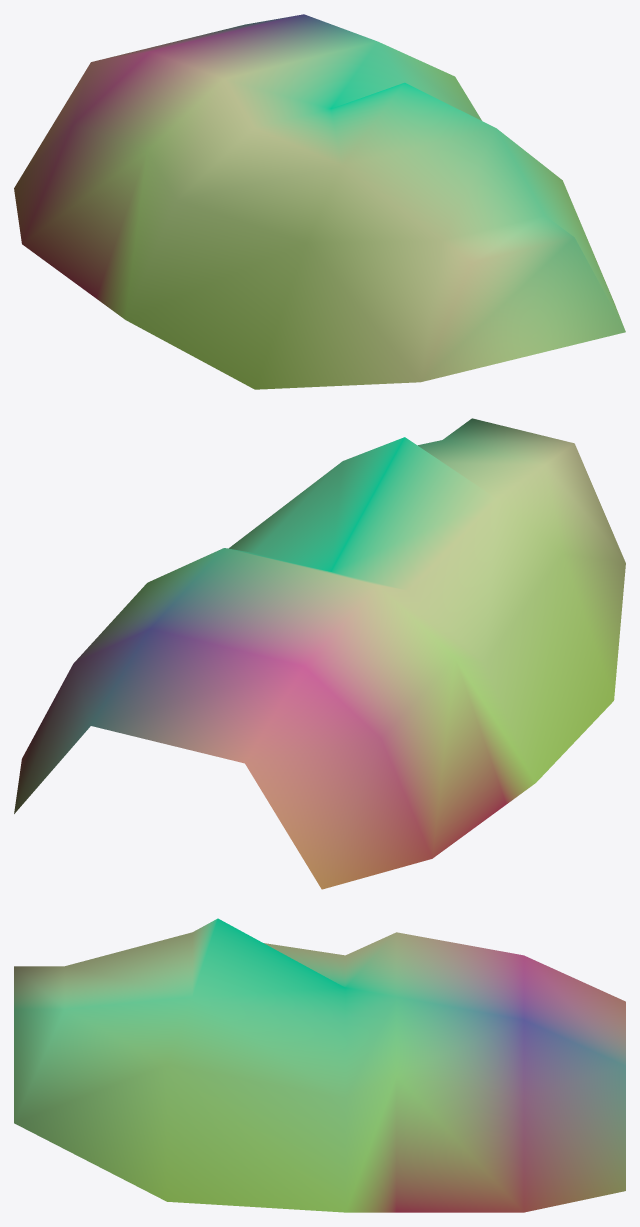
The picture shows the model from 3 angles, top to bottom: view 1: azimuth 30°, elevation 25°; view 2: azimuth 150°, elevation 25°; view 3: azimuth 270°, elevation 25°; orthographic projection. The views are drawn at different scales.
Visible parts, largest first — view 1: part; view 2: part; view 3: part.
Boxes of the visible parts, bbox=[...] form: part: bbox=[14, 14, 625, 389]; part: bbox=[14, 418, 625, 889]; part: bbox=[14, 918, 625, 1212].
Size of the model in its own units: 16 by 9 by 24.
